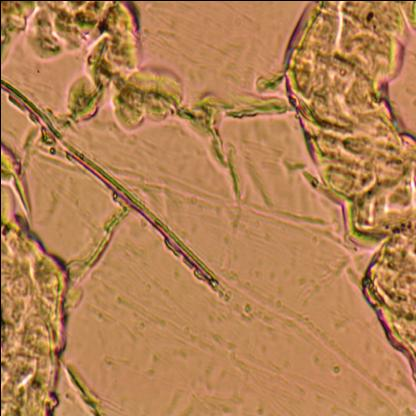Normal: (290, 0, 416, 416), (0, 0, 125, 416)
